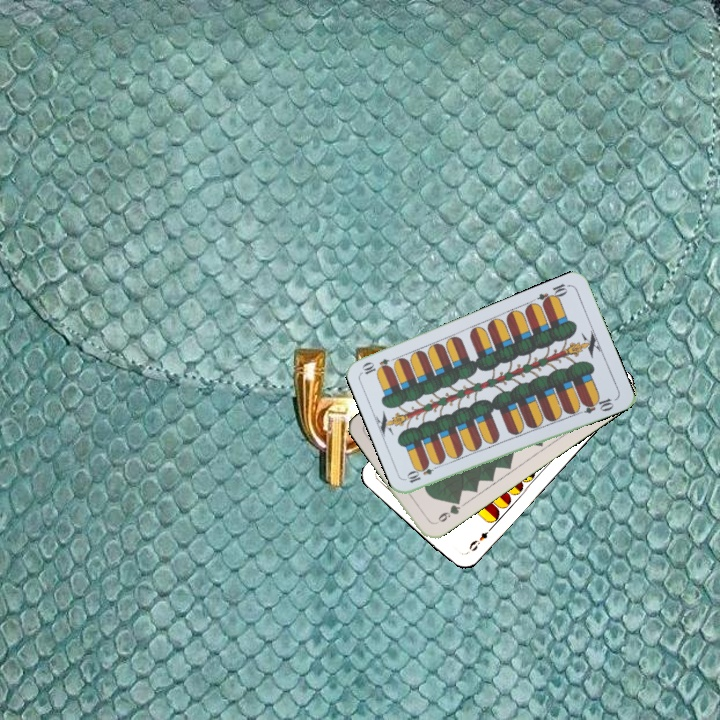E10: (534, 279, 572, 308), (403, 460, 442, 486)
E9: (465, 523, 494, 554)
G9: (431, 495, 463, 527)
